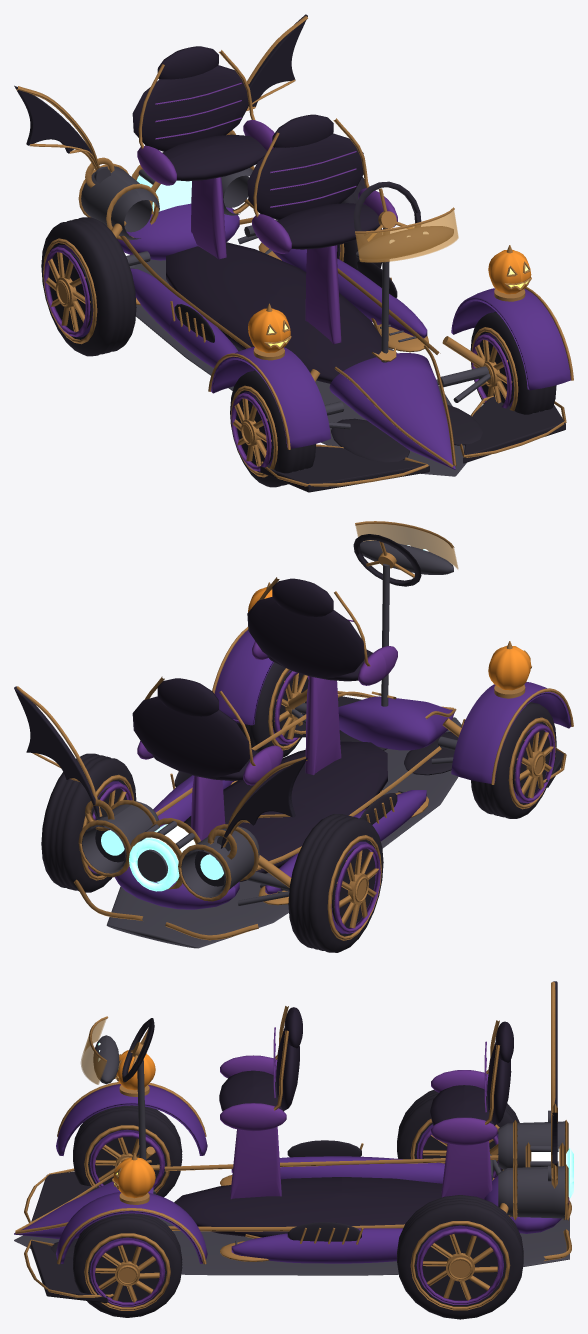
File: A061-C01-tandem-runtime.glb
The picture shows the model from 3 angles, top to bottom: view 1: azimuth 30°, elevation 25°; view 2: azimuth 150°, elevation 25°; view 3: azimuth 270°, elevation 25°; orthographic projection. The views are drawn at different scales.
Parts seen in each view (by area): view 1: Body, Wheel_RL, Wheel_FL, Wheel_FR, Wheel_RR; view 2: Body, Wheel_RL, Wheel_RR, Wheel_FL, Wheel_FR; view 3: Body, Wheel_RR, Wheel_FR, Wheel_FL, Wheel_RL.
Boxes of the visible parts, left/top/right/bottom form: Body: left=14, top=14, right=573, bottom=492; Wheel_RL: left=41, top=217, right=136, bottom=356; Wheel_FL: left=230, top=370, right=315, bottom=487; Wheel_FR: left=470, top=311, right=556, bottom=414; Wheel_RR: left=336, top=176, right=382, bottom=270; Body: left=14, top=521, right=573, bottom=948; Wheel_RL: left=288, top=814, right=383, bottom=952; Wheel_RR: left=41, top=753, right=136, bottom=892; Wheel_FL: left=471, top=702, right=556, bottom=818; Wheel_FR: left=236, top=662, right=308, bottom=757; Body: left=14, top=981, right=573, bottom=1303; Wheel_RR: left=397, top=1195, right=523, bottom=1319; Wheel_FR: left=73, top=1213, right=182, bottom=1317; Wheel_FL: left=73, top=1105, right=182, bottom=1197; Wheel_RL: left=397, top=1090, right=519, bottom=1178.
Bounding box in the file's own units: 0.5716 × 0.4874 × 1.
